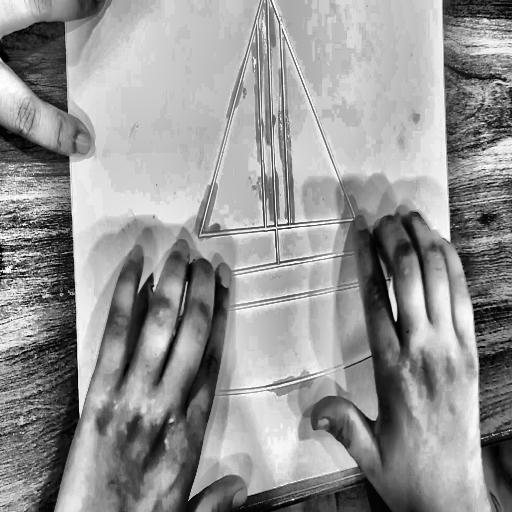boat: (133, 0, 413, 423)
bottom_right: (457, 415, 467, 431)
